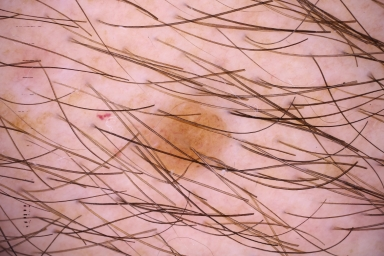melanoma: (150, 106, 229, 169)
